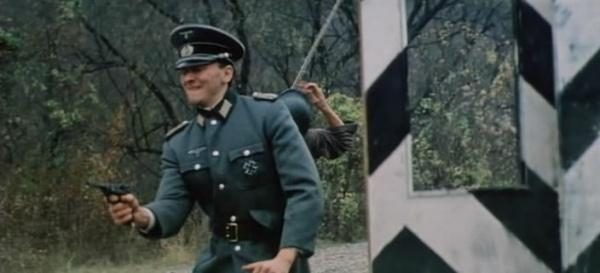Gun: (89, 180, 132, 204)
